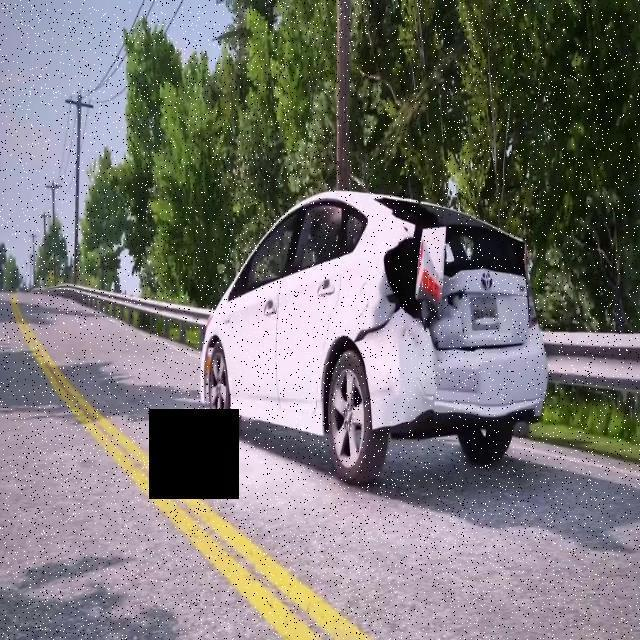single accident: (157, 165, 581, 496)
